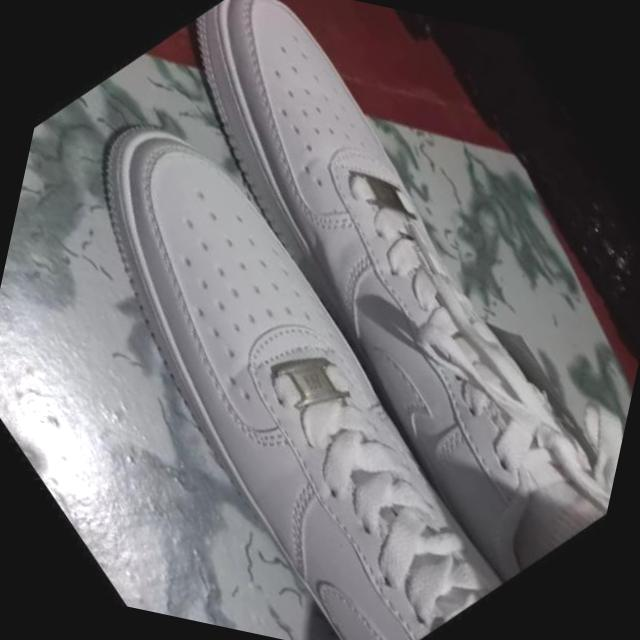nike_fake_airforce: (54, 0, 640, 599), (0, 60, 596, 640)
